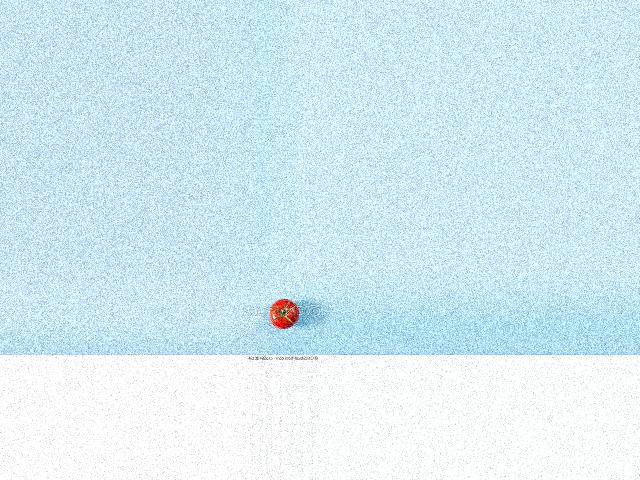tomato: (269, 299, 298, 330)
